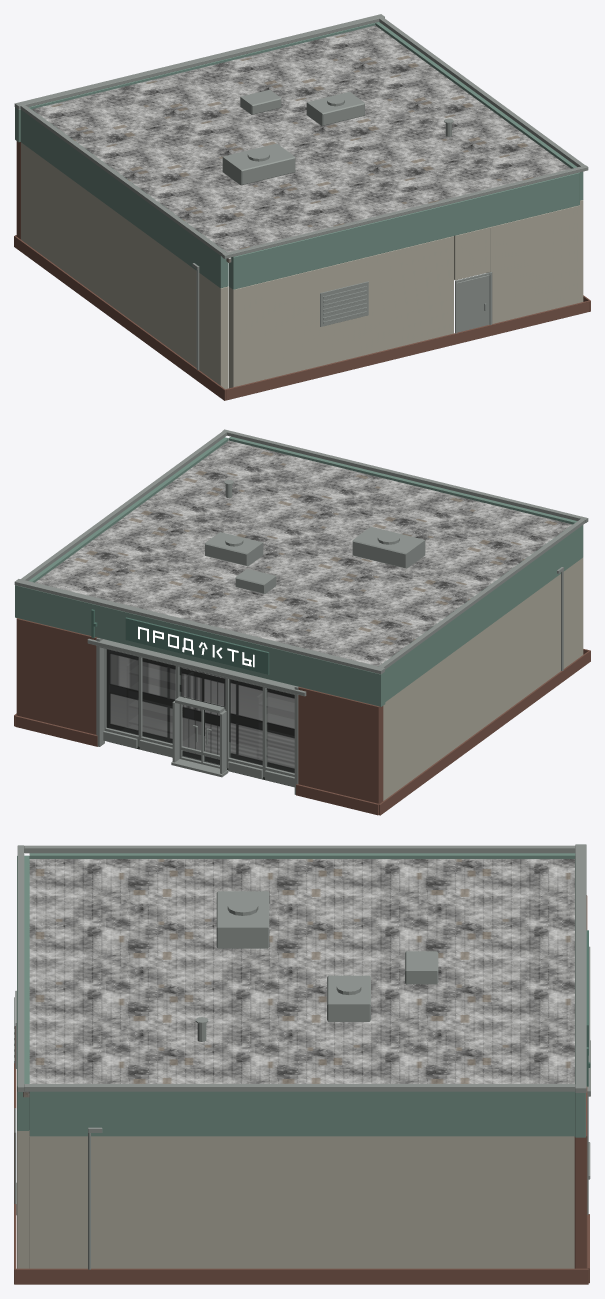
The model's file is SupermarketExterior3D.fbx.
3 views of the same model, one above another, from view 1: azimuth 30°, elevation 25°; view 2: azimuth 150°, elevation 25°; view 3: azimuth 270°, elevation 25° (orthographic). The views are drawn at different scales.
Visible parts, largest first — view 1: Flat Membrane Roof, Rear Rendered Wall, Left Rendered Wall, Rear Fascia, Parapet Metal Cap, Dark Brick Plinth, Left Fascia, Rooftop Refrigeration Cases, Closed Rear Service Door, Right Fascia, Front Fascia, Rear Louver Housing (+1 smaller); view 2: Flat Membrane Roof, Left Rendered Wall, Front Brick Wings, Storefront Glass Bays, Front Fascia, Parapet Metal Cap, Storefront Interior Shadow Box, Left Fascia, Dark Brick Plinth, Dark Shelf Silhouettes, Rooftop Refrigeration Cases, Main Shop Sign Field (+9 smaller); view 3: Flat Membrane Roof, Right Rendered Wall, Right Fascia, Parapet Metal Cap, Dark Brick Plinth, Rooftop Refrigeration Cases, Left Fascia, Rear Fascia, Front Brick Wings, Rear Rendered Wall, Front Fascia, Rooftop Fan Guards.
Boxes of the visible parts, left/top/right/bottom form: Flat Membrane Roof: left=32, top=25, right=570, bottom=262; Rear Rendered Wall: left=229, top=205, right=579, bottom=388; Left Rendered Wall: left=21, top=142, right=228, bottom=389; Rear Fascia: left=229, top=172, right=579, bottom=289; Parapet Metal Cap: left=14, top=14, right=588, bottom=258; Dark Brick Plinth: left=14, top=235, right=590, bottom=400; Left Fascia: left=20, top=108, right=228, bottom=288; Rooftop Refrigeration Cases: left=222, top=89, right=364, bottom=185; Closed Rear Service Door: left=457, top=275, right=489, bottom=332; Right Fascia: left=375, top=22, right=583, bottom=200; Front Fascia: left=15, top=23, right=375, bottom=142; Rear Louver Housing: left=320, top=281, right=368, bottom=326; Flat Membrane Roof: left=35, top=438, right=572, bottom=666; Left Rendered Wall: left=383, top=557, right=583, bottom=800; Front Brick Wings: left=16, top=618, right=383, bottom=803; Storefront Glass Bays: left=106, top=649, right=294, bottom=773; Front Fascia: left=15, top=585, right=385, bottom=706; Parapet Metal Cap: left=14, top=429, right=588, bottom=674; Storefront Interior Shadow Box: left=106, top=649, right=294, bottom=786; Left Fascia: left=379, top=523, right=583, bottom=701; Dark Brick Plinth: left=14, top=649, right=590, bottom=815; Dark Shelf Silhouettes: left=127, top=658, right=294, bottom=763; Rooftop Refrigeration Cases: left=205, top=527, right=425, bottom=593; Main Shop Sign Field: left=125, top=617, right=269, bottom=674; Flat Membrane Roof: left=23, top=859, right=574, bottom=1097; Right Rendered Wall: left=29, top=1136, right=574, bottom=1268; Right Fascia: left=29, top=1091, right=574, bottom=1136; Parapet Metal Cap: left=17, top=844, right=586, bottom=1092; Dark Brick Plinth: left=14, top=1026, right=589, bottom=1284; Rooftop Refrigeration Cases: left=216, top=891, right=438, bottom=1021; Left Fascia: left=29, top=853, right=575, bottom=858; Rear Fascia: left=17, top=855, right=29, bottom=1130; Front Brick Wings: left=574, top=895, right=587, bottom=1268; Rear Rendered Wall: left=17, top=1130, right=29, bottom=1268; Front Fascia: left=575, top=856, right=585, bottom=1137; Rooftop Fan Guards: left=227, top=899, right=361, bottom=994.
Bounding box in the file's own units: 15.5 × 6.4 × 15.5.
